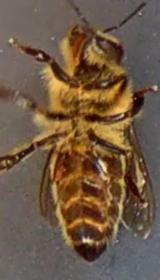varroa_mite: (44, 147, 68, 183)
